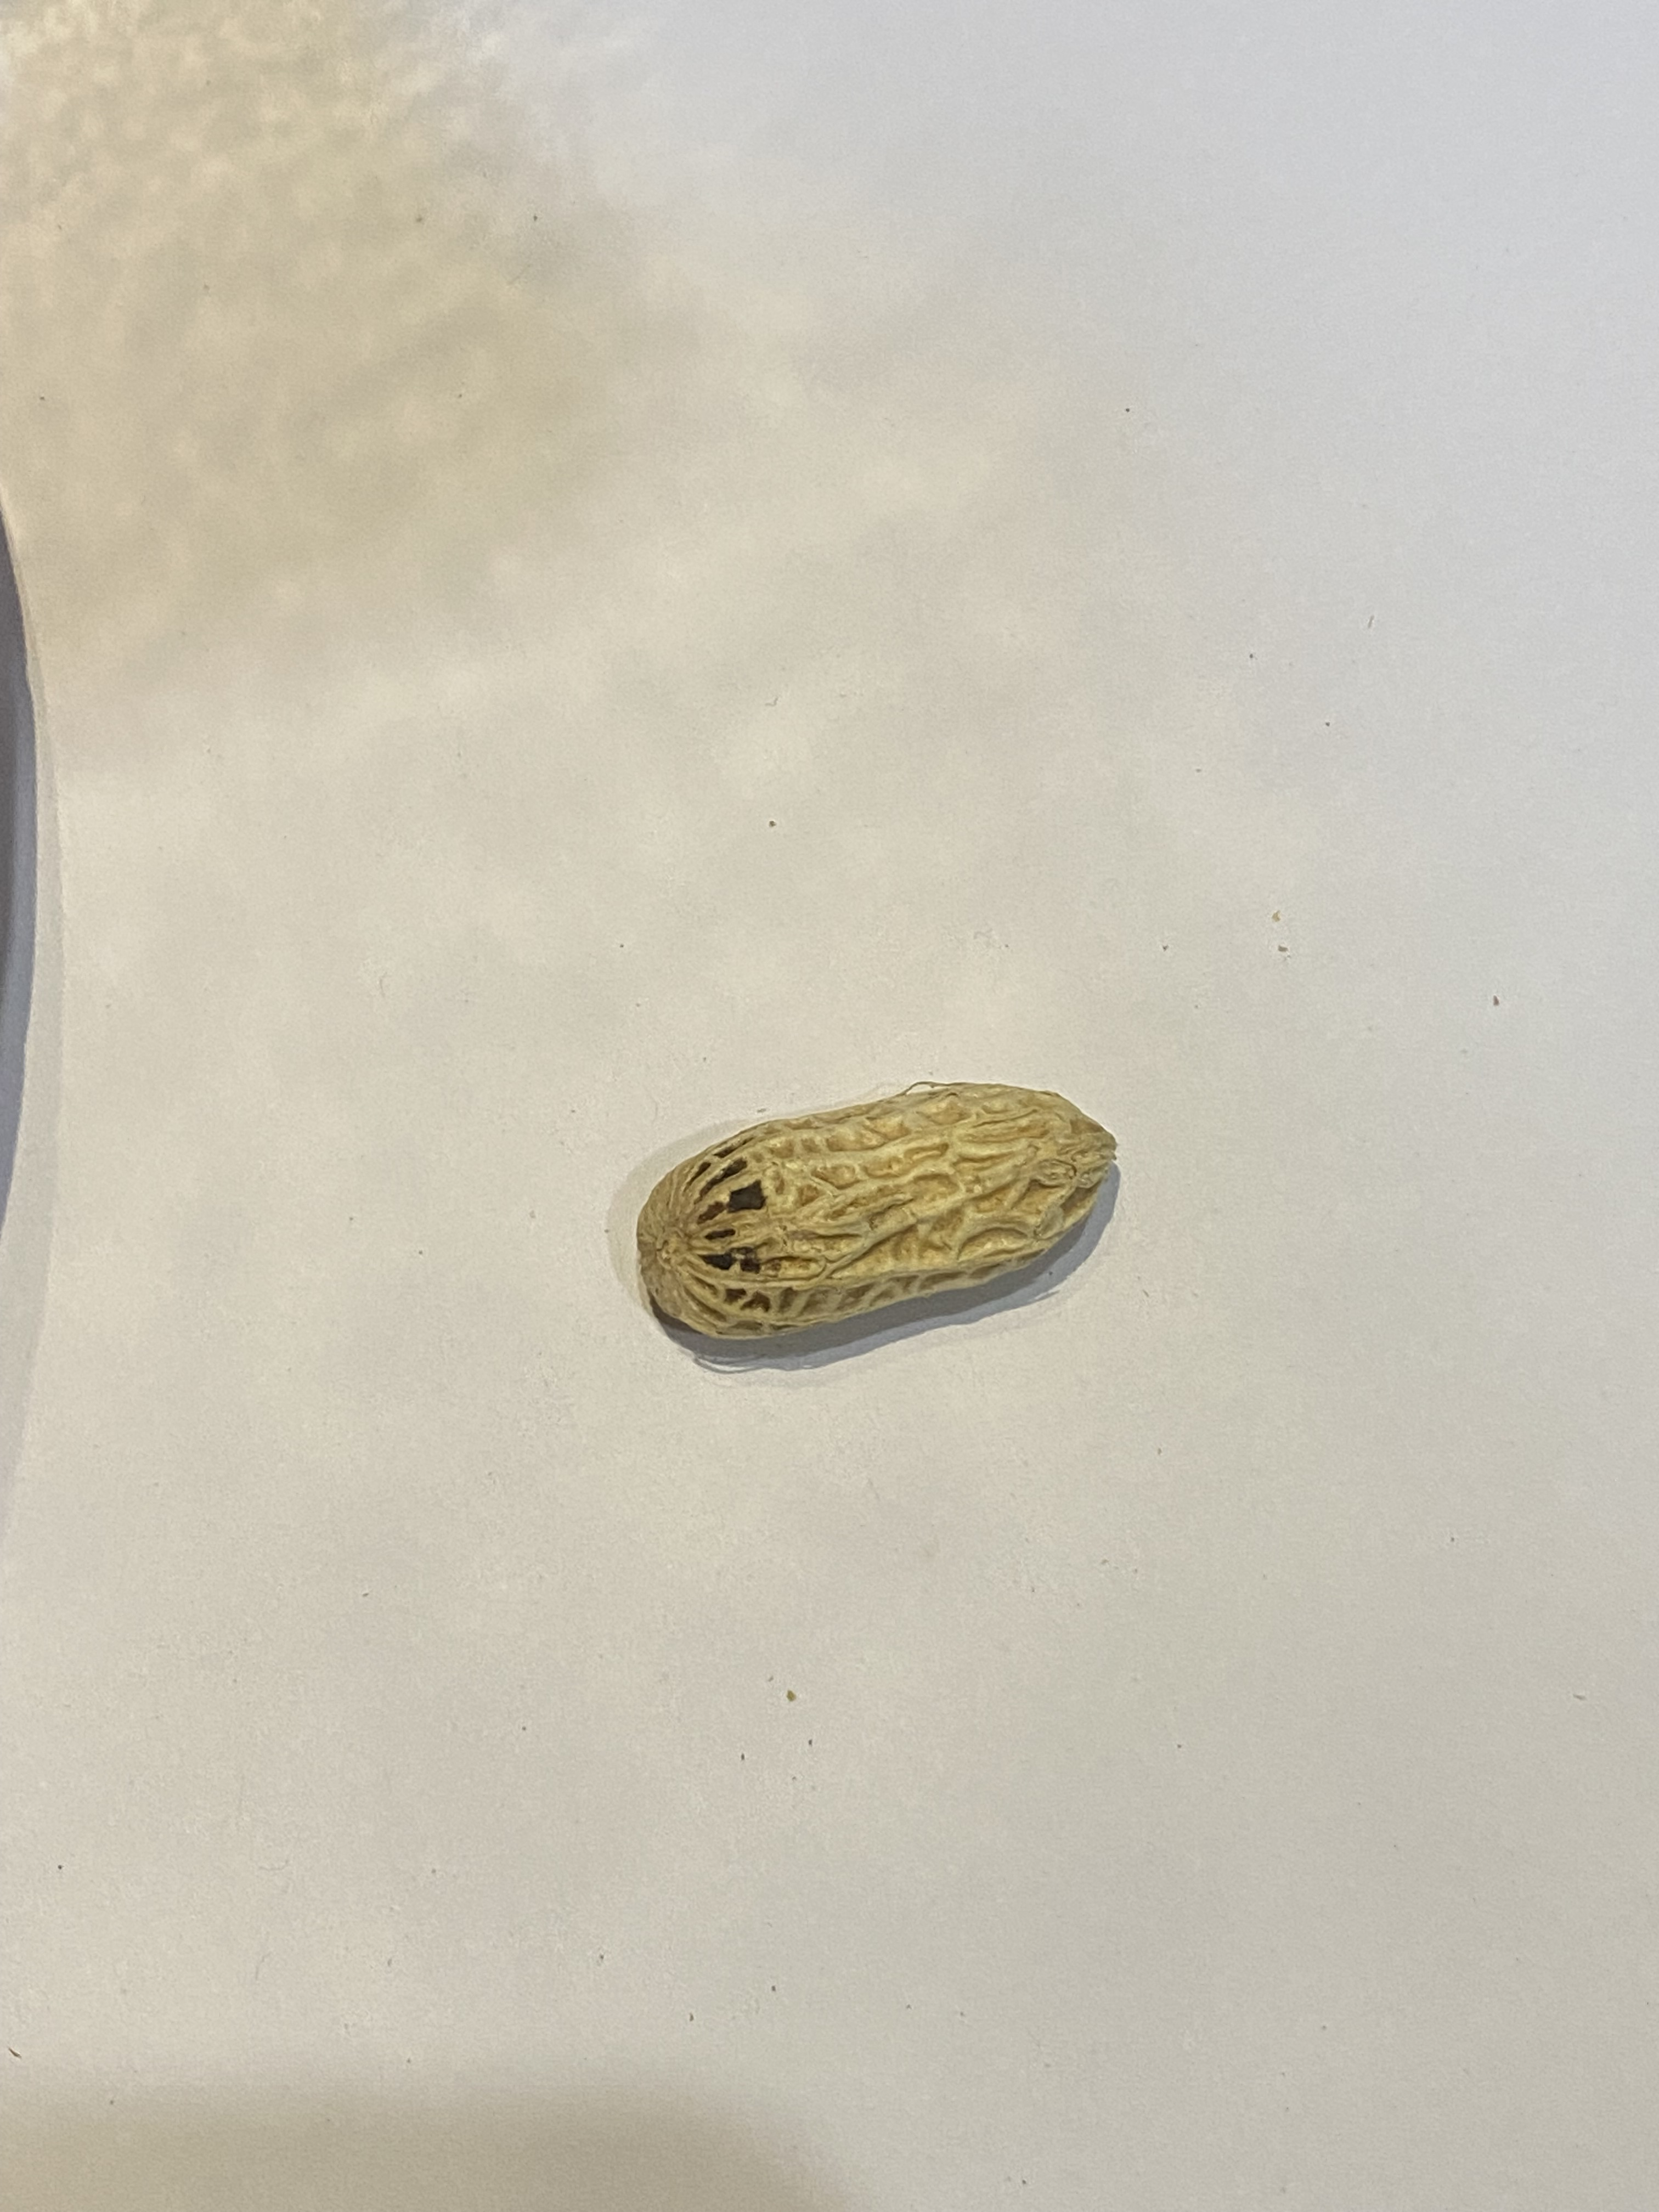kacang2: (584, 1071, 1143, 1346)
